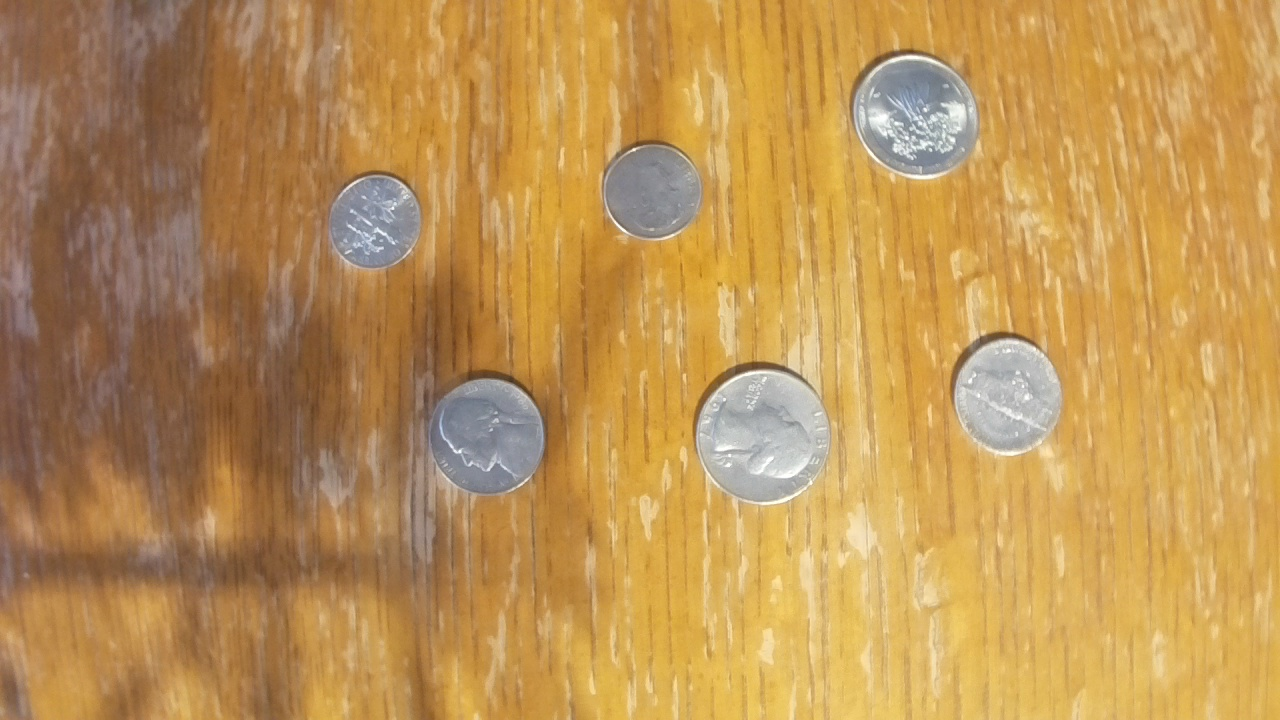dime: (602, 143, 703, 241), (327, 170, 422, 269)
nickel: (426, 373, 544, 497), (953, 335, 1063, 459)
quarter: (695, 367, 833, 505), (851, 52, 980, 184)
